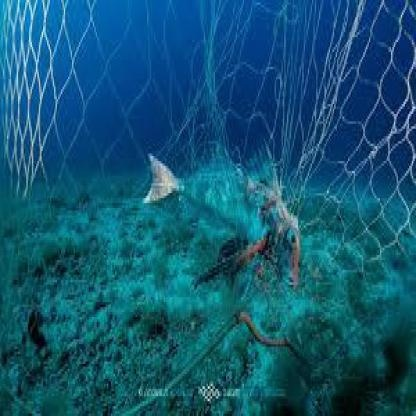net: (309, 2, 416, 270), (1, 2, 118, 213)
